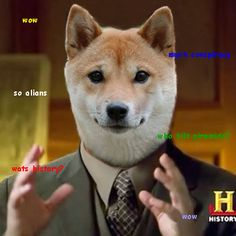doge: (55, 5, 179, 169)
